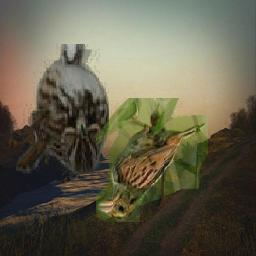Sparrow: (96, 98, 208, 222), (17, 44, 110, 174)
